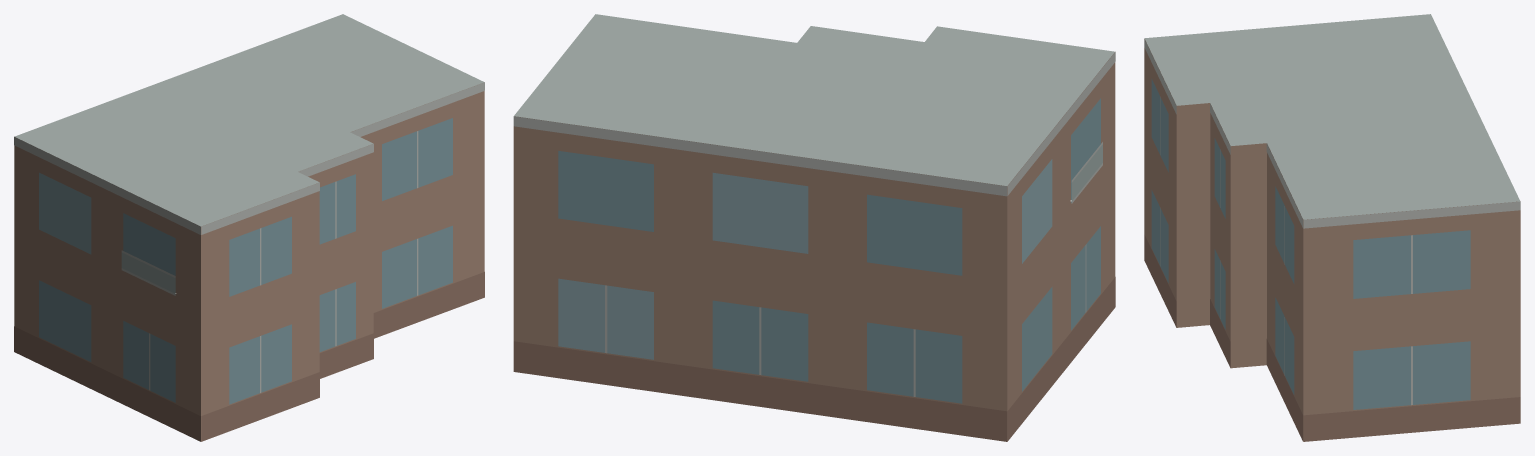
The model's file is survey-upis-32782589.glb.
3 renders of one model, left to right at view 1: azimuth 30°, elevation 25°; view 2: azimuth 150°, elevation 25°; view 3: azimuth 270°, elevation 25°, orthographic. The views are drawn at different scales.
Visible parts, largest first — view 1: survey-upis-32782589.tmp; view 2: survey-upis-32782589.tmp; view 3: survey-upis-32782589.tmp.
Boxes of the visible parts, x1,y1,x2,y2 form: survey-upis-32782589.tmp: (14, 14, 484, 441); survey-upis-32782589.tmp: (513, 14, 1115, 441); survey-upis-32782589.tmp: (1144, 14, 1520, 441).
Size of the model in its own units: 12.13 by 6.1 by 9.37.
